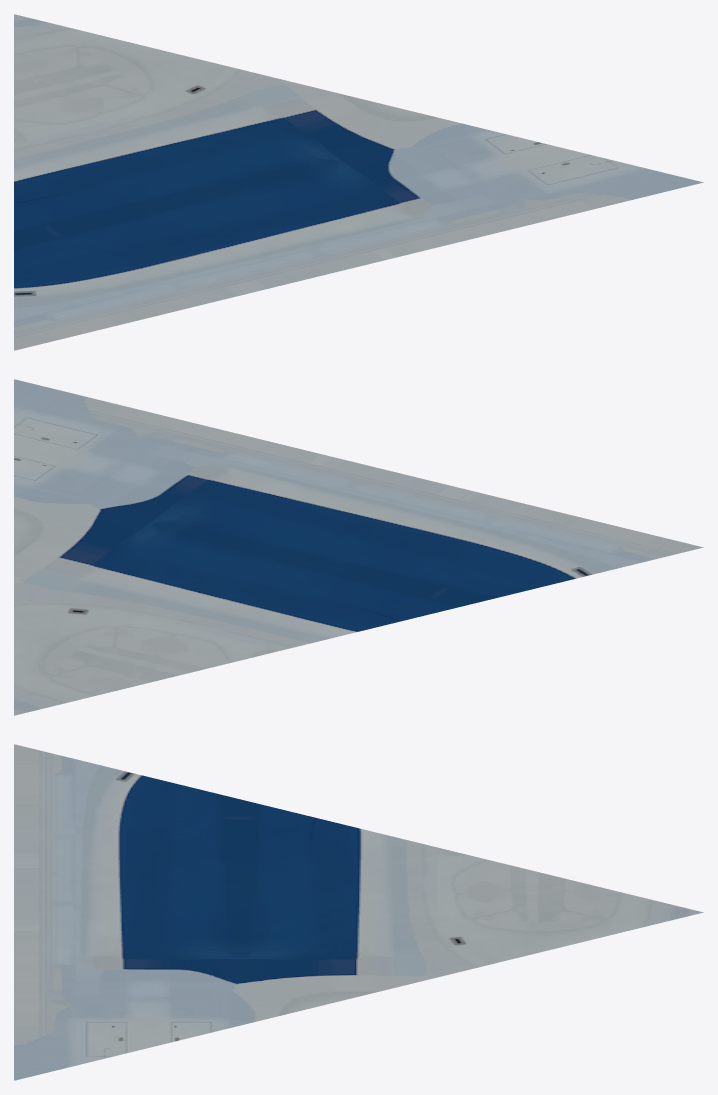
The model's file is objects_un_t05motorboat01_plane.gltf.
3 views of the same model, one above another, from view 1: azimuth 30°, elevation 25°; view 2: azimuth 150°, elevation 25°; view 3: azimuth 270°, elevation 25° (orthographic).
Visible parts, largest first — view 1: objects_un_t05motorboat01_plane_model_mesh_shape:objects_un_; view 2: objects_un_t05motorboat01_plane_model_mesh_shape:objects_un_; view 3: objects_un_t05motorboat01_plane_model_mesh_shape:objects_un_.
Part boxes in pixels (box(x1,y1,x2,y2)): objects_un_t05motorboat01_plane_model_mesh_shape:objects_un_: box(14, 14, 703, 350); objects_un_t05motorboat01_plane_model_mesh_shape:objects_un_: box(14, 379, 703, 715); objects_un_t05motorboat01_plane_model_mesh_shape:objects_un_: box(14, 744, 703, 1080).
Size of the model in its own units: 0.0173 by 0 by 0.015.
1 material, 1 textured.
